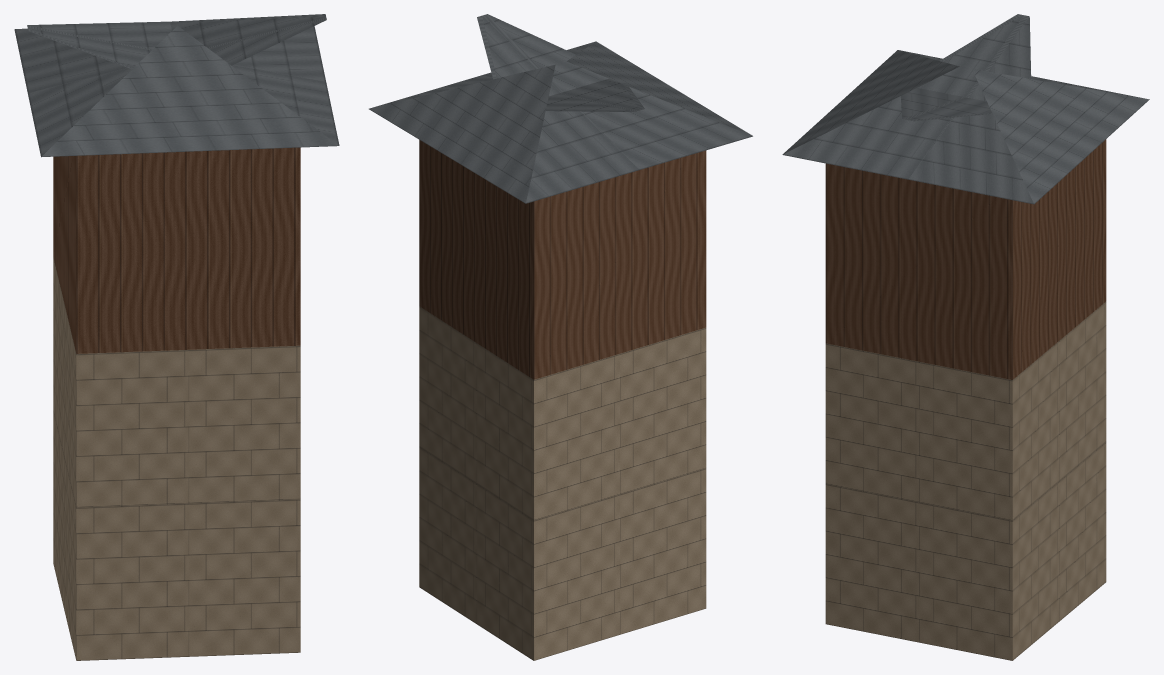
Rendered from bld_c11_10_501.gltf.
3 renders of one model, left to right at view 1: azimuth 30°, elevation 25°; view 2: azimuth 150°, elevation 25°; view 3: azimuth 270°, elevation 25°, orthographic. The views are drawn at different scales.
Parts seen in each view (by area): view 1: bld_c11_10_501; view 2: bld_c11_10_501; view 3: bld_c11_10_501.
Part boxes in pixels (bbox=[...]): bld_c11_10_501: bbox=[14, 14, 339, 660]; bld_c11_10_501: bbox=[369, 14, 752, 660]; bld_c11_10_501: bbox=[782, 14, 1149, 660].
Size of the model in its own units: 5.57 by 9 by 5.6.
3 materials, 3 textured.
